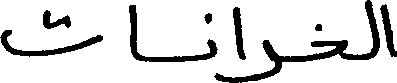ا: (231, 4, 246, 81), (379, 2, 395, 58), (127, 2, 139, 60)
ت: (0, 7, 102, 57)
خ: (305, 21, 347, 62)
ر: (248, 38, 281, 81)
ل: (362, 0, 378, 61)
ن: (204, 10, 217, 81)
